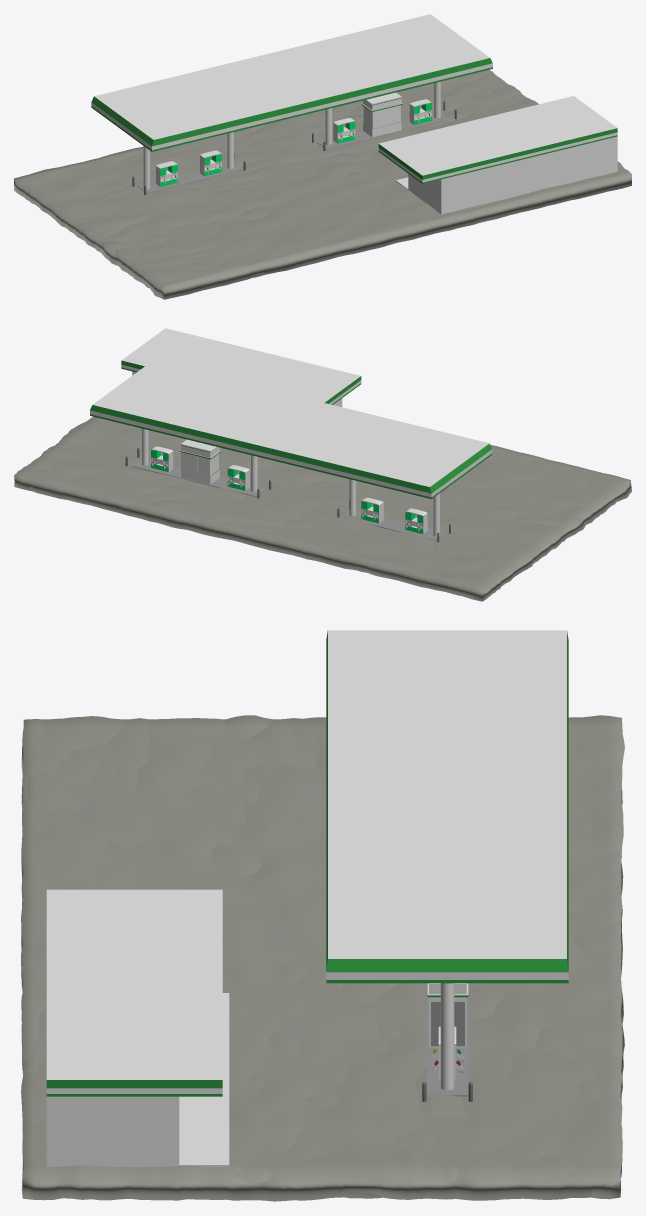
The model's file is Gas Station1 (1).fbx.
3 renders of one model, top to bottom at view 1: azimuth 30°, elevation 25°; view 2: azimuth 150°, elevation 25°; view 3: azimuth 270°, elevation 25°, orthographic. The views are drawn at different scales.
Parts seen in each view (by area): view 1: Plane.002, Cube.039, Cube.035, Cube.033, Cube.032, Cube.037, Cube.009, Cube.034, Cube.036, Cube.038; view 2: Plane.002, Cube.039, Cube.035, Cube.033, Cube.032, Cube.037, Cube.034, Cube.009, Cube.036, Cube.038; view 3: Plane.002, Cube.039, Cube.035, Circle.015, Cube.033, Cube.032.
Boxes of the visible parts, left/top/right/bottom form: Plane.002: left=14, top=69, right=631, bottom=299; Cube.039: left=91, top=14, right=492, bottom=151; Cube.035: left=378, top=96, right=617, bottom=214; Cube.033: left=361, top=92, right=402, bottom=137; Cube.032: left=316, top=112, right=449, bottom=149; Cube.037: left=137, top=164, right=241, bottom=193; Cube.009: left=409, top=99, right=431, bottom=124; Cube.034: left=333, top=118, right=355, bottom=143; Cube.036: left=200, top=150, right=221, bottom=176; Cube.038: left=156, top=161, right=177, bottom=186; Plane.002: left=14, top=416, right=631, bottom=601; Cube.039: left=90, top=361, right=492, bottom=498; Cube.035: left=121, top=328, right=361, bottom=406; Cube.033: left=180, top=439, right=220, bottom=484; Cube.032: left=132, top=460, right=266, bottom=496; Cube.037: left=343, top=511, right=446, bottom=540; Cube.034: left=227, top=465, right=249, bottom=490; Cube.009: left=151, top=446, right=173, bottom=471; Cube.036: left=361, top=497, right=383, bottom=523; Cube.038: left=405, top=508, right=427, bottom=533; Plane.002: left=21, top=715, right=624, bottom=1201; Cube.039: left=326, top=630, right=568, bottom=983; Cube.035: left=46, top=889, right=229, bottom=1167; Circle.015: left=440, top=983, right=454, bottom=1090; Cube.033: left=427, top=983, right=468, bottom=1047; Cube.032: left=427, top=983, right=468, bottom=1096.
Bounding box in the file's own units: 12546 × 2256 × 6940.
